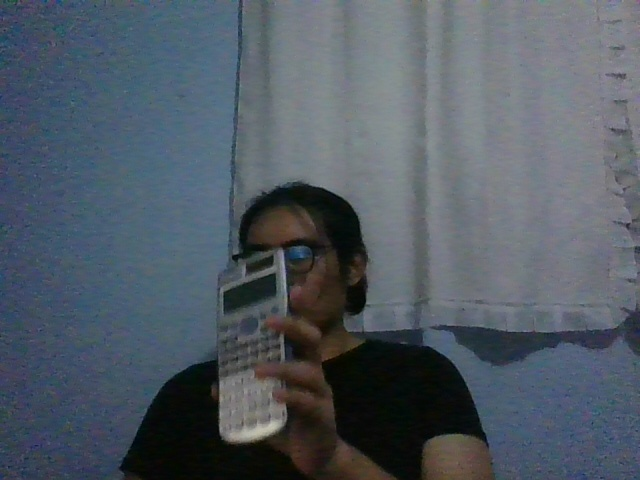calculadora: (216, 247, 289, 447)
